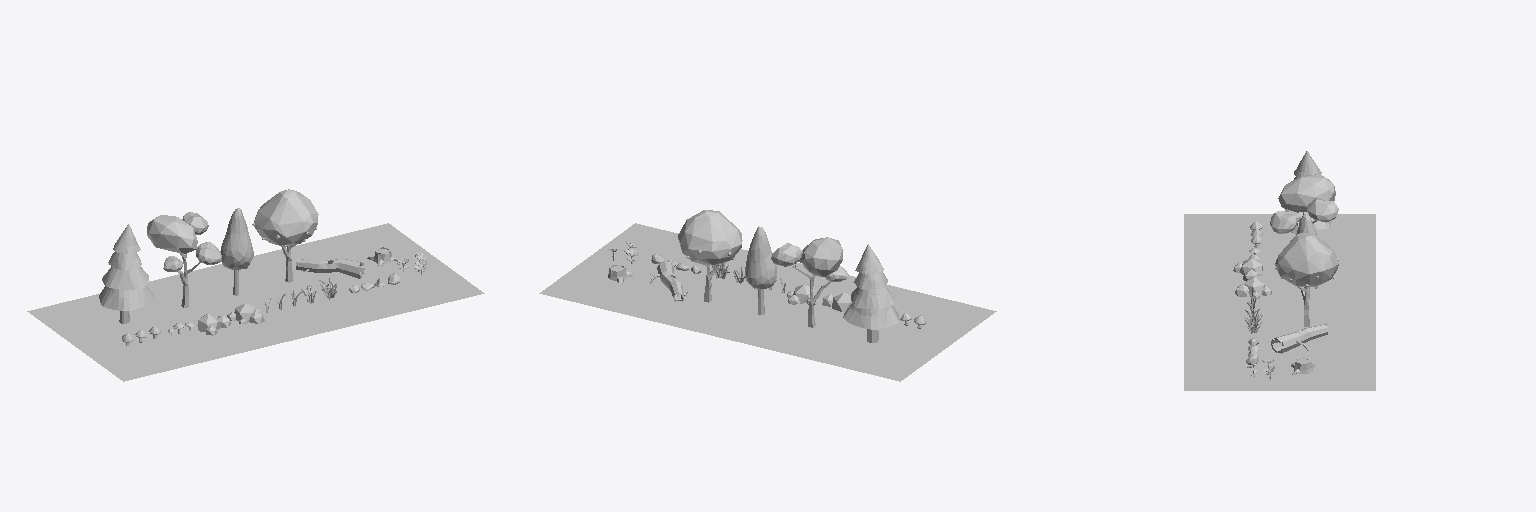
The model's file is greens.obj.
3 views of the same model, side by side, from view 1: azimuth 30°, elevation 25°; view 2: azimuth 150°, elevation 25°; view 3: azimuth 270°, elevation 25° (orthographic).
Visible parts, largest first — view 1: Plane.001, Icosphere.006, Pine_Tree, Icosphere.003, Icosphere.005, Cylinder; view 2: Plane.001, Icosphere.006, Pine_Tree, Icosphere.003, Icosphere.005, Cylinder; view 3: Plane.001, Icosphere.006, Icosphere.003, Cylinder, Pine_Tree.
Boxes of the visible parts, x1,y1,x2,y2 form: Plane.001: [27, 223, 484, 381]; Icosphere.006: [252, 189, 318, 282]; Pine_Tree: [99, 224, 153, 323]; Icosphere.003: [147, 212, 221, 307]; Icosphere.005: [220, 208, 253, 295]; Cylinder: [296, 258, 364, 278]; Plane.001: [539, 223, 996, 381]; Icosphere.006: [678, 210, 742, 302]; Pine_Tree: [843, 244, 899, 342]; Icosphere.003: [771, 237, 848, 327]; Icosphere.005: [745, 226, 776, 314]; Cylinder: [650, 261, 687, 301]; Plane.001: [1184, 214, 1375, 390]; Icosphere.006: [1275, 232, 1338, 326]; Icosphere.003: [1270, 174, 1338, 234]; Cylinder: [1271, 324, 1328, 353]; Pine_Tree: [1284, 151, 1331, 232].
Bounding box in the file's own units: 91.33 × 23.93 × 42.12.